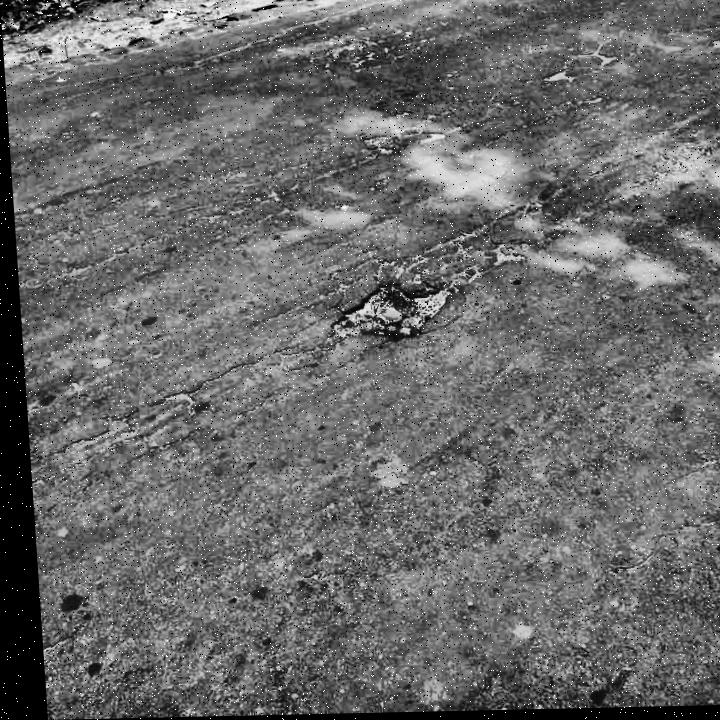pothole: (319, 278, 453, 342)
